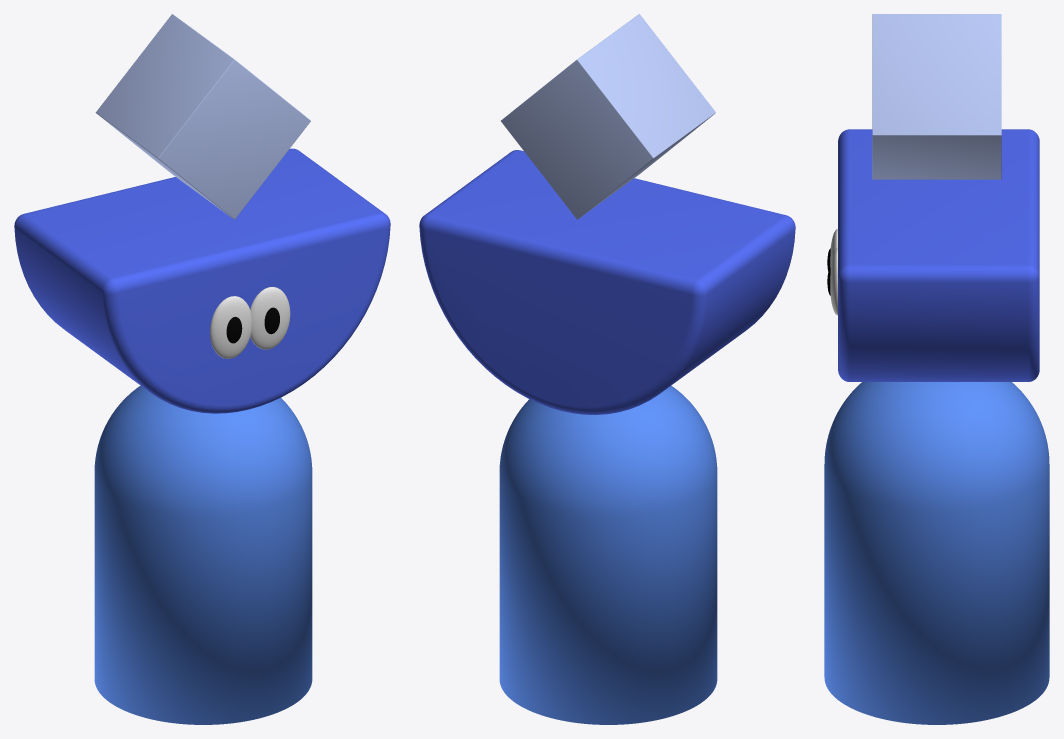
Rendered from Figure.gltf.
The picture shows the model from 3 angles, left to right: view 1: azimuth 30°, elevation 25°; view 2: azimuth 150°, elevation 25°; view 3: azimuth 270°, elevation 25°; orthographic projection. The views are drawn at different scales.
Parts seen in each view (by area): view 1: Cylinder.005, Cylinder.002, hat, eye_left.001, eye_right.001; view 2: Cylinder.005, Cylinder.002, hat; view 3: Cylinder.005, Cylinder.002, hat, eye_right.001.
Boxes of the visible parts, x1,y1,x2,y2 form: Cylinder.005: (94,385,312,724); Cylinder.002: (14,148,390,413); hat: (95,14,310,219); eye_left.001: (210,296,251,358); eye_right.001: (250,287,290,349); Cylinder.005: (499,385,717,724); Cylinder.002: (419,150,795,414); hat: (501,14,715,219); Cylinder.005: (824,382,1049,724); Cylinder.002: (838,129,1039,381); hat: (872,14,1001,179); eye_right.001: (830,248,837,315).
Bounding box in the file's own units: 2.22 × 4.74 × 1.46.
